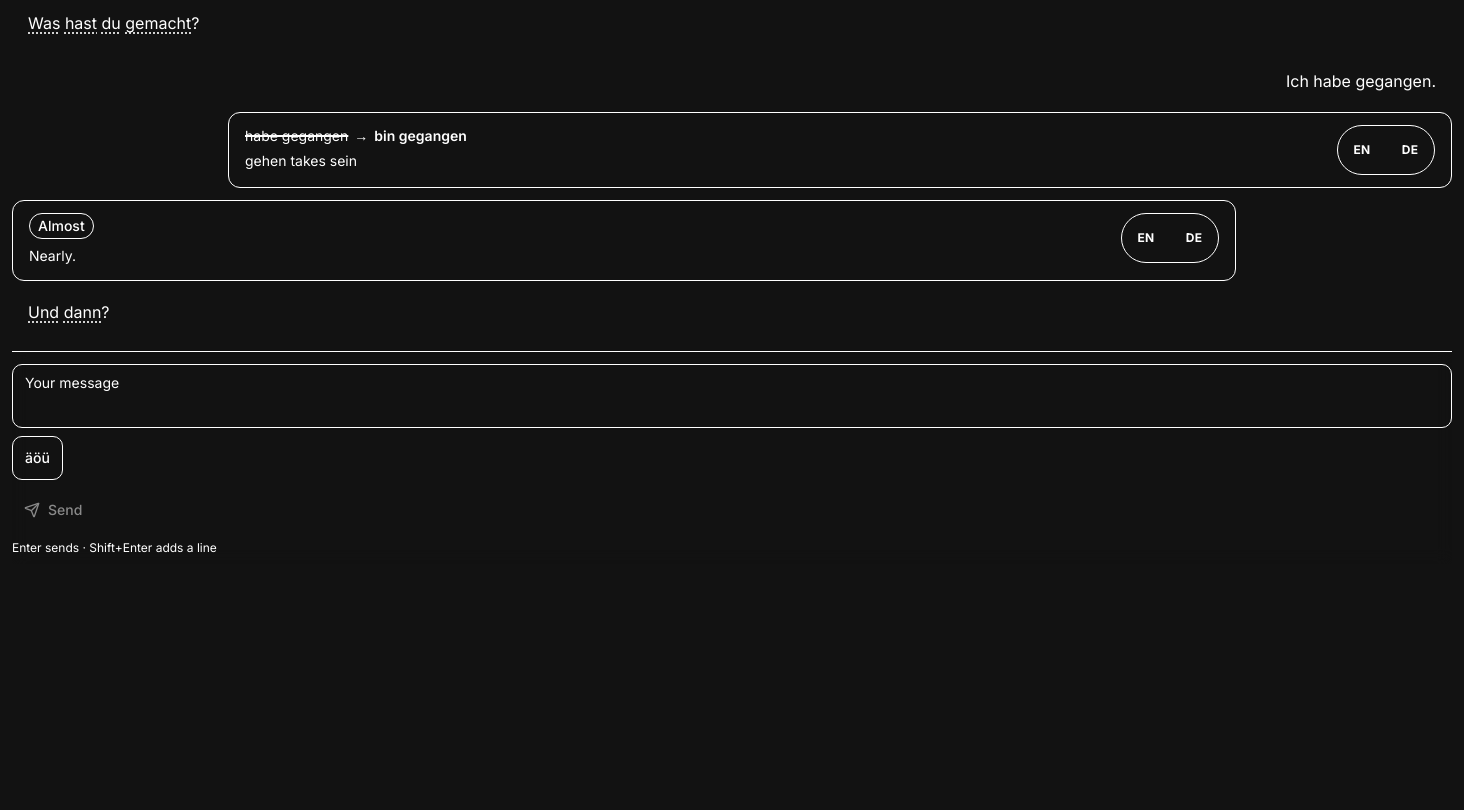
Test: ChatThread › shows inline corrections under the student’s message with a language toggle, and drill verdicts
Expected: the text "gehen takes sein" is shown, [245,152,357,169]
Click the button "DE" in the row of "bin gegangen": (1410, 150) [1388,128,1432,172]
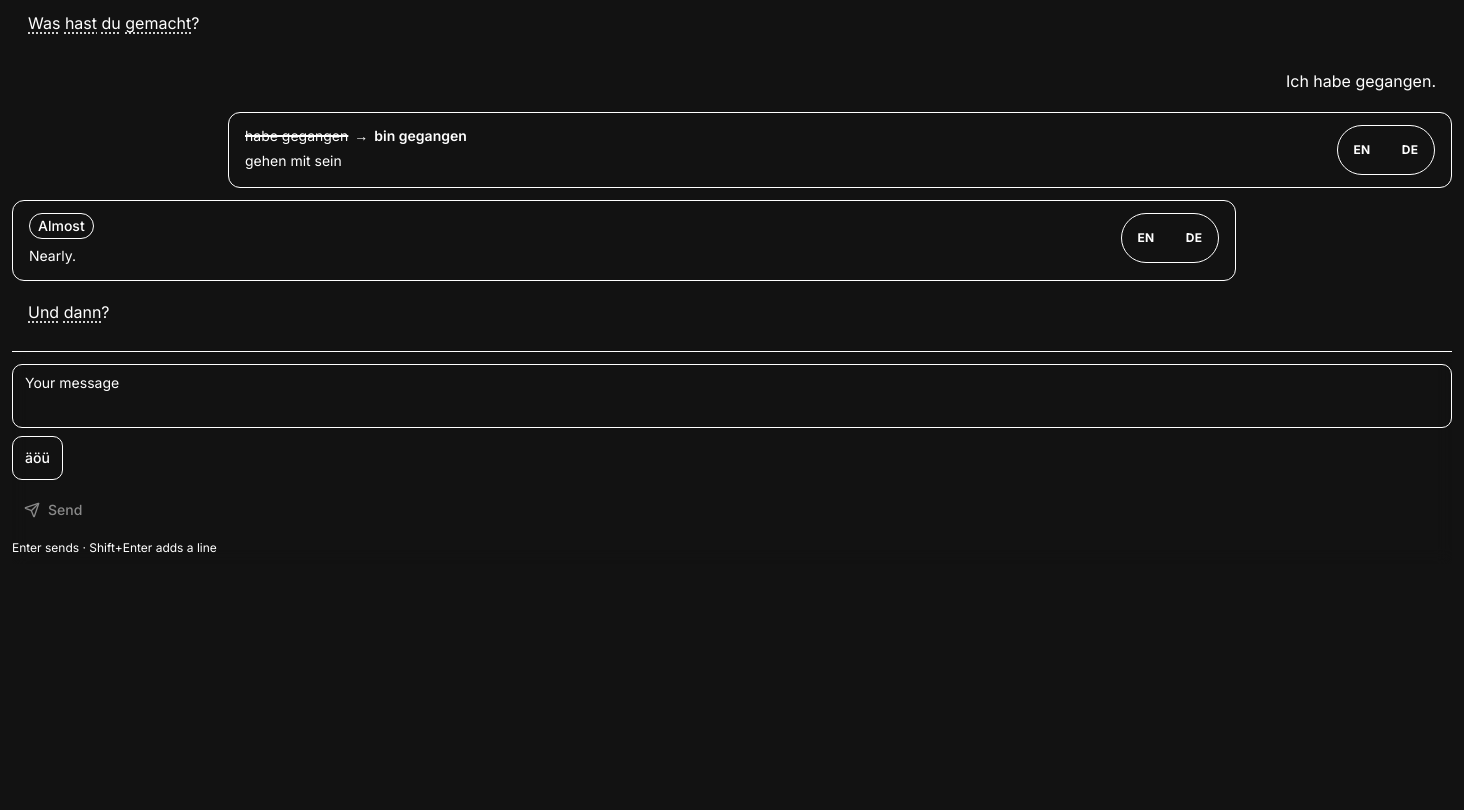
Expected: the text "Almost" is shown, [29,213,94,239]
Result: the text "gehen mit sein" is shown at [245,152,342,169]
Click the button "DE" in the row of "Almost": (1194, 238) [1172,216,1216,260]
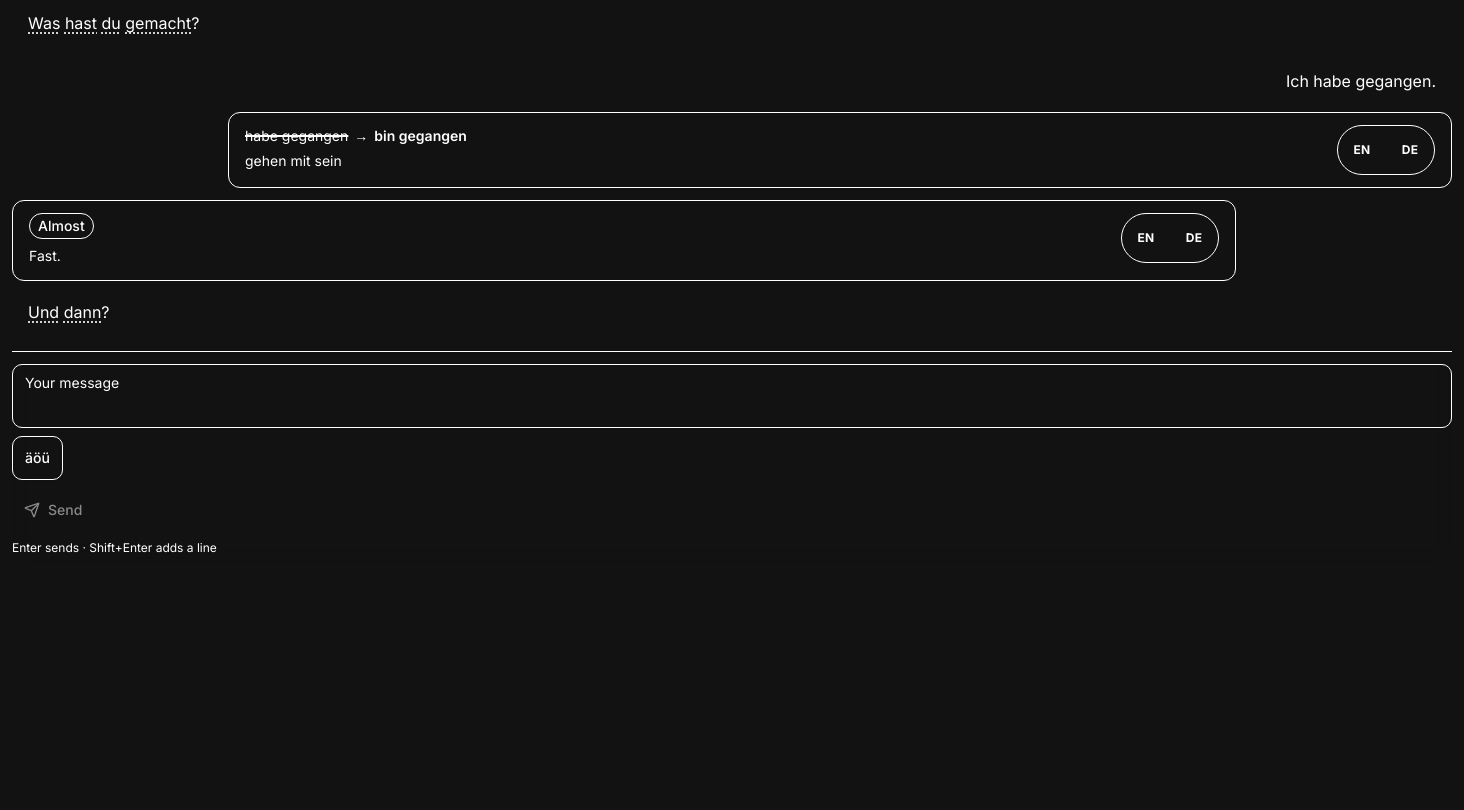
Result: the text "Fast." is shown at [29,247,61,264]
